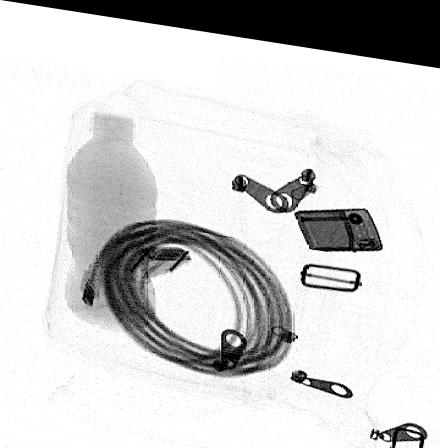Lighter: (294, 196, 384, 241)
